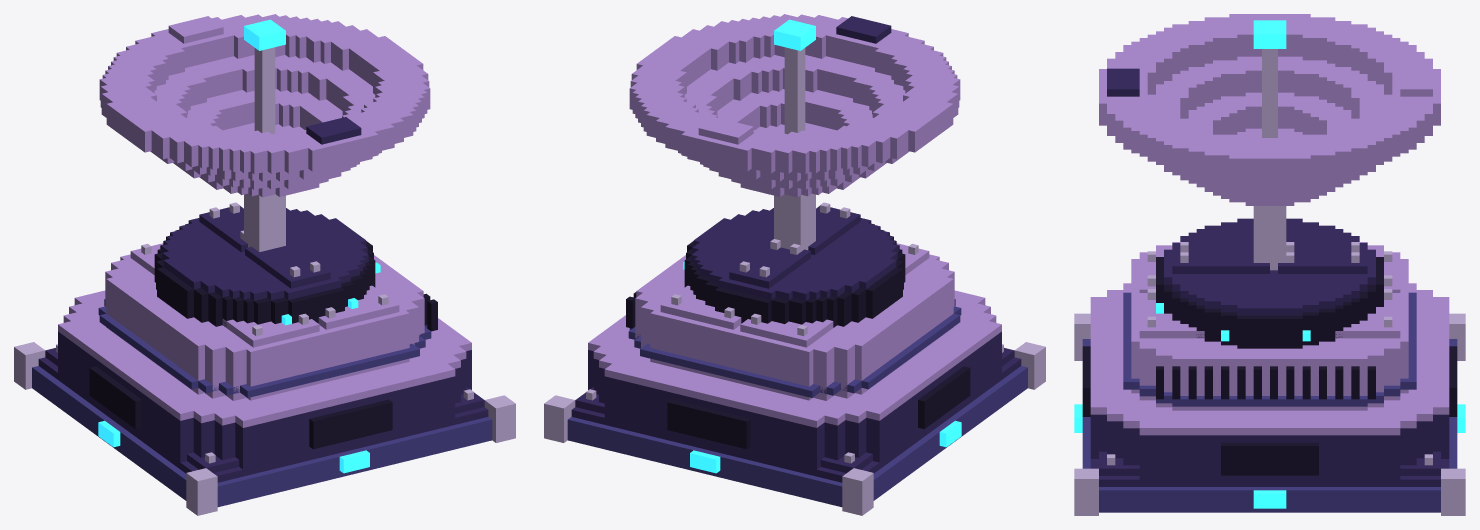
File: sensor-dish.lg.glb
3 views of the same model, side by side, from view 1: azimuth 30°, elevation 25°; view 2: azimuth 150°, elevation 25°; view 3: azimuth 270°, elevation 25° (orthographic). The views are drawn at different scales.
Parts seen in each view (by area): view 1: sensor-dish.lg; view 2: sensor-dish.lg; view 3: sensor-dish.lg.
Boxes of the visible parts, bbox=[...] form: sensor-dish.lg: bbox=[14, 14, 515, 515]; sensor-dish.lg: bbox=[544, 14, 1045, 515]; sensor-dish.lg: bbox=[1074, 14, 1465, 515].
Bounding box in the file's own units: 3 × 3.44 × 3.
